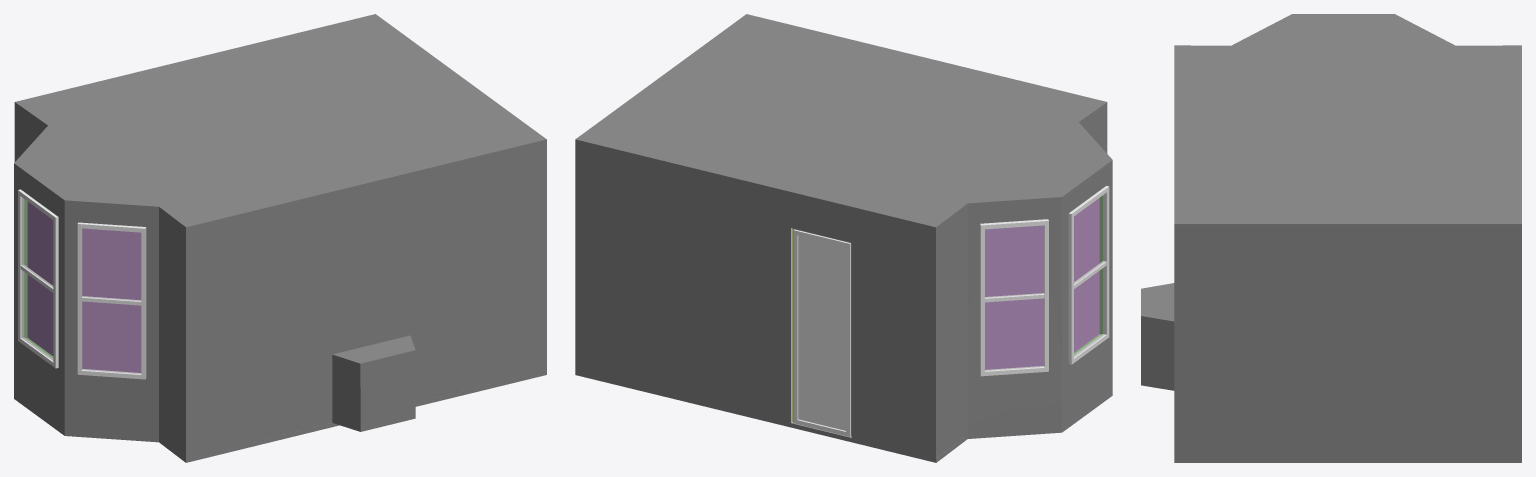
Rendered from Victorian_Room_01.FBX.
3 views of the same model, side by side, from view 1: azimuth 30°, elevation 25°; view 2: azimuth 150°, elevation 25°; view 3: azimuth 270°, elevation 25° (orthographic).
Visible parts, largest first — view 1: Wall_04, Ceiling, Wall_03, Wall_03_Coll_02, Wall_03_Props, Wall_03_Coll_03, Floor, Wall_03_Surface; view 2: Wall_02, Ceiling, Wall_03, Wall_03_Coll_04, Wall_03_Props, Wall_03_Coll_03, Floor, Wall_02_Props, Wall_03_Surface; view 3: Wall_01, Ceiling, Wall_04, Floor.
Part boxes in pixels (x1,y1,x2,y2): Wall_04: (186, 144, 546, 458); Ceiling: (14, 14, 546, 231); Wall_03: (14, 106, 185, 457); Wall_03_Coll_02: (82, 228, 141, 372); Wall_03_Props: (18, 189, 146, 379); Wall_03_Coll_03: (27, 202, 53, 355); Floor: (14, 370, 546, 462); Wall_03_Surface: (24, 199, 53, 358); Wall_02: (575, 144, 935, 458); Ceiling: (575, 14, 1112, 231); Wall_03: (936, 107, 1112, 458); Wall_03_Coll_04: (985, 225, 1043, 369); Wall_03_Props: (980, 186, 1109, 376); Wall_03_Coll_03: (1074, 198, 1099, 352); Floor: (575, 370, 1112, 462); Wall_02_Props: (794, 229, 850, 436); Wall_03_Surface: (1074, 195, 1102, 354); Wall_01: (1174, 228, 1521, 458); Ceiling: (1174, 14, 1521, 228); Wall_04: (1141, 283, 1174, 390); Floor: (1174, 458, 1521, 462).
Bounding box in the file's own units: 5320 × 2806 × 4051.
